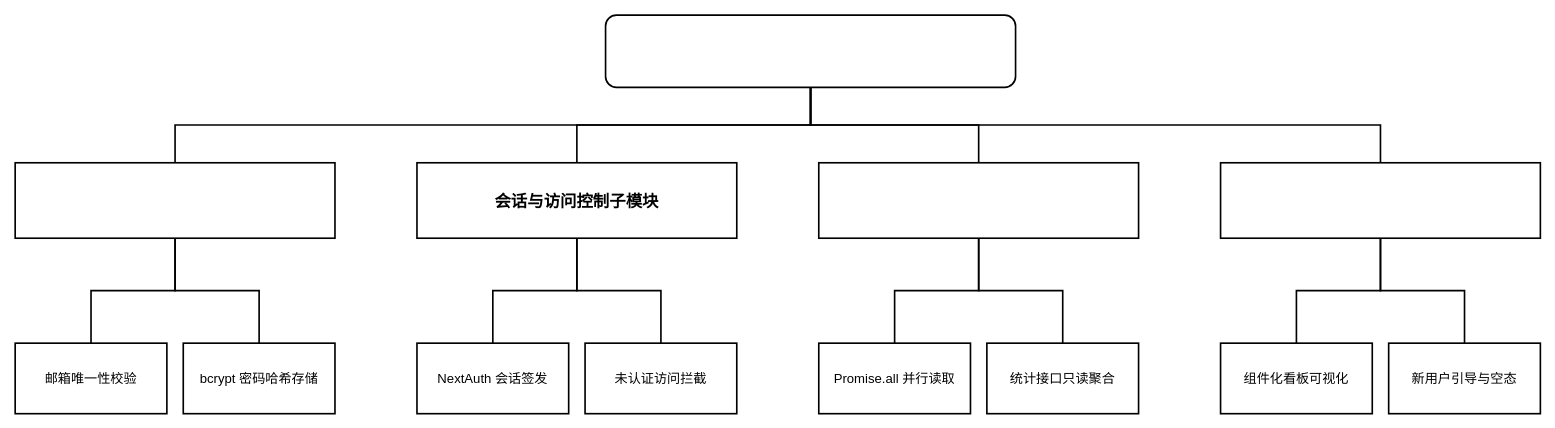
The diagram is 1555 pixels wide and 428 high, and some of its shapes have lost their labels. Each missing label, with the box of its shape:
可视化与引导呈现子模块: (1219, 162, 1541, 239)
注册与登录子模块: (14, 162, 335, 239)
用户认证与数据看板模块: (604, 14, 1016, 88)
看板数据聚合子模块: (818, 162, 1139, 239)
